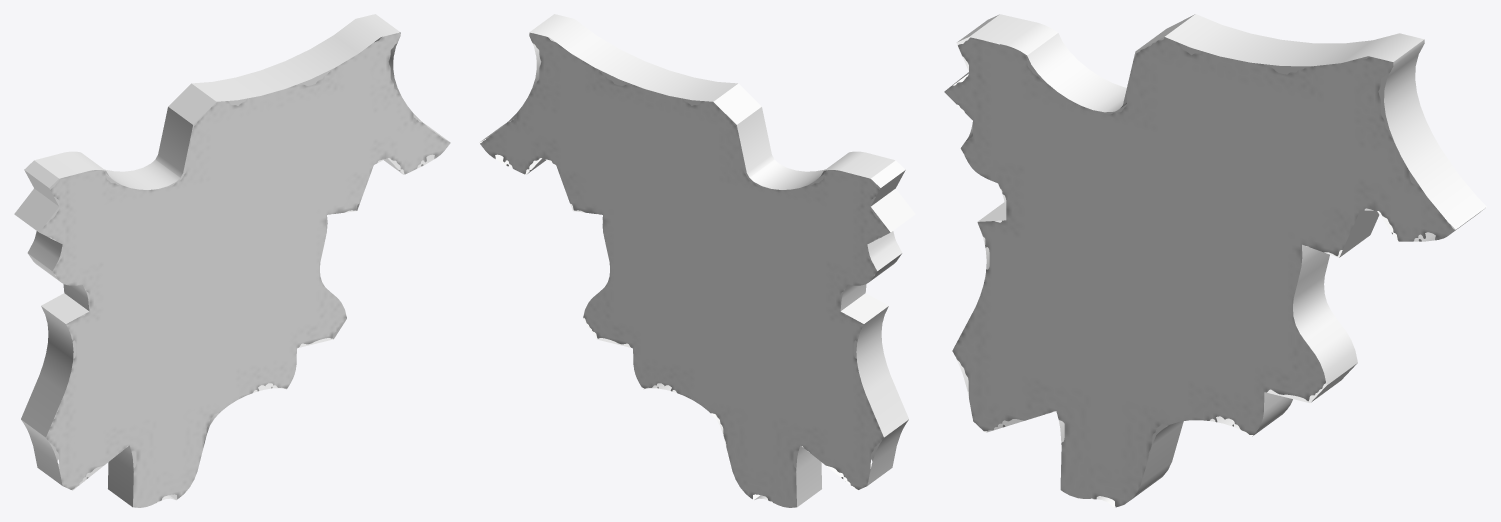
File: Trentino-Alto Adige.OBJ
The picture shows the model from 3 angles, left to right: view 1: azimuth 30°, elevation 25°; view 2: azimuth 150°, elevation 25°; view 3: azimuth 330°, elevation 25°; orthographic projection. The views are drawn at different scales.
Bounding box in the file's own units: 123 × 118 × 13.
3 materials, 3 textured.
